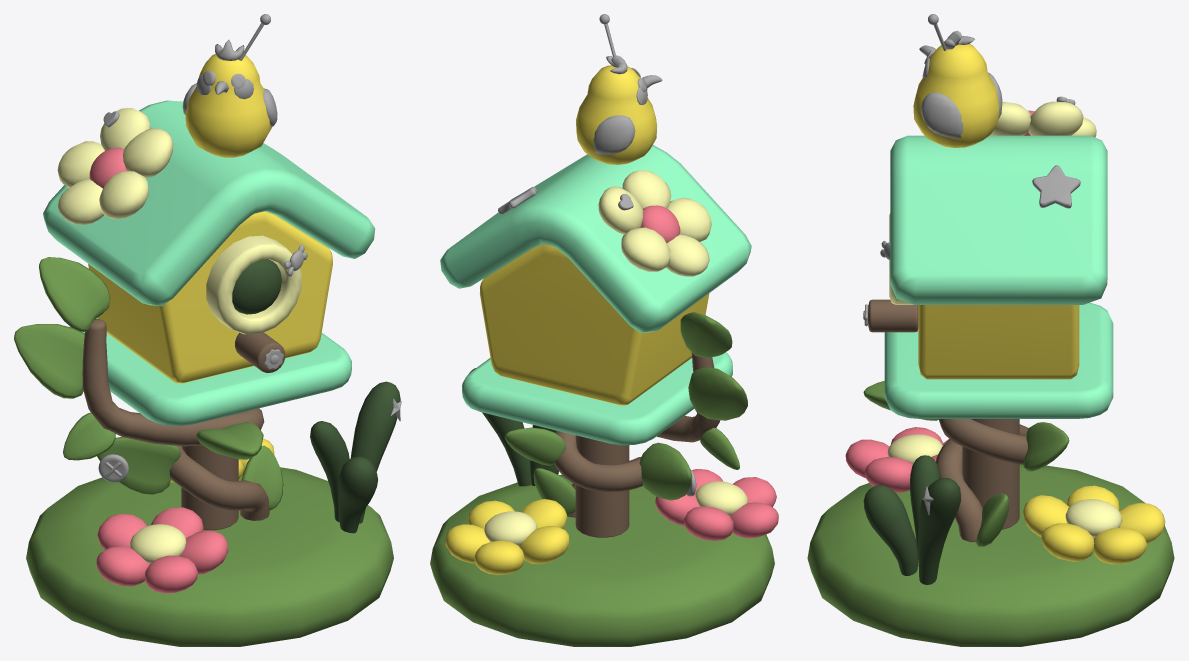
Rendered from BirdHouse_camp.fbx.
3 views of the same model, side by side, from view 1: azimuth 30°, elevation 25°; view 2: azimuth 150°, elevation 25°; view 3: azimuth 270°, elevation 25° (orthographic). The views are drawn at different scales.
Visible parts, largest first — view 1: S_BirdHouse, M_BirdHouse, D_BirdHouse_12; view 2: S_BirdHouse, M_BirdHouse, D_BirdHouse_3; view 3: S_BirdHouse, M_BirdHouse, D_BirdHouse_2, D_BirdHouse_15.
Part boxes in pixels (<box>): S_BirdHouse: <box>14,100,400,646</box>; M_BirdHouse: <box>70,54,351,593</box>; D_BirdHouse_12: <box>98,454,128,482</box>; S_BirdHouse: <box>430,145,774,646</box>; M_BirdHouse: <box>445,65,778,574</box>; D_BirdHouse_3: <box>593,115,635,154</box>; S_BirdHouse: <box>807,101,1174,646</box>; M_BirdHouse: <box>845,44,1165,564</box>; D_BirdHouse_2: <box>921,92,962,138</box>; D_BirdHouse_15: <box>1032,165,1080,208</box>.
Size of the model in its own units: 316 by 515 by 297.
